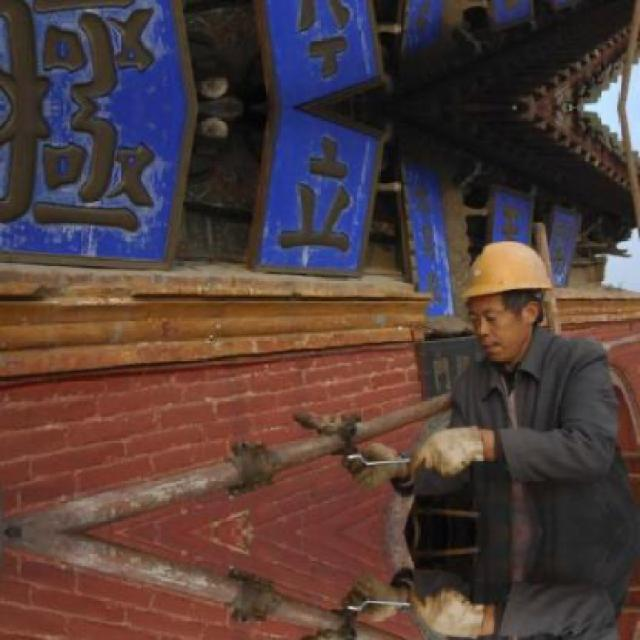helmet: (457, 230, 563, 362)
